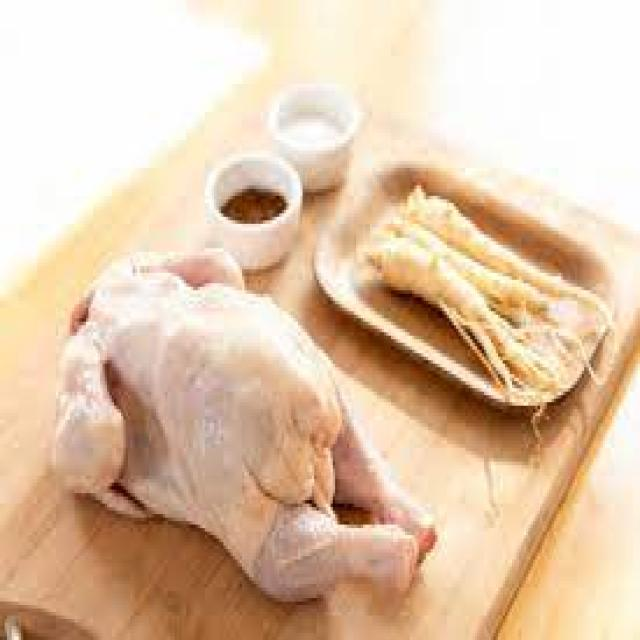chicken: (42, 234, 440, 608)
